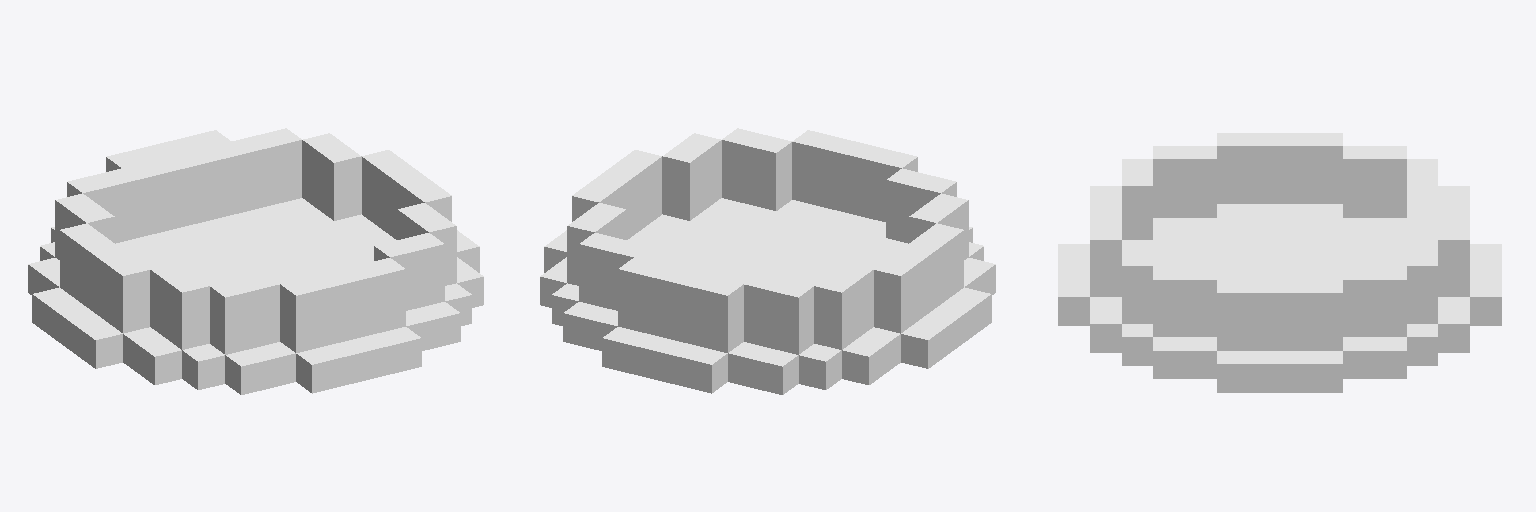
File: pote_auau.obj
3 renders of one model, left to right at view 1: azimuth 30°, elevation 25°; view 2: azimuth 150°, elevation 25°; view 3: azimuth 270°, elevation 25°, orthographic.
Parts seen in each view (by area): view 1: ObjObject; view 2: ObjObject; view 3: ObjObject.
Boxes of the visible parts, box(x1,y1,x2,y2) form: ObjObject: box(28, 128, 483, 394); ObjObject: box(540, 128, 995, 394); ObjObject: box(1058, 133, 1501, 392).
Bounding box in the file's own units: 1.4 × 0.3 × 1.4.